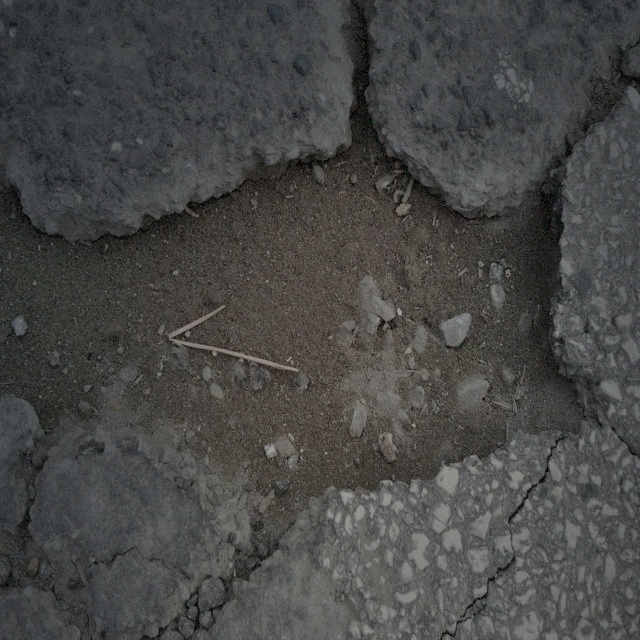pothole: (12, 97, 590, 514)
